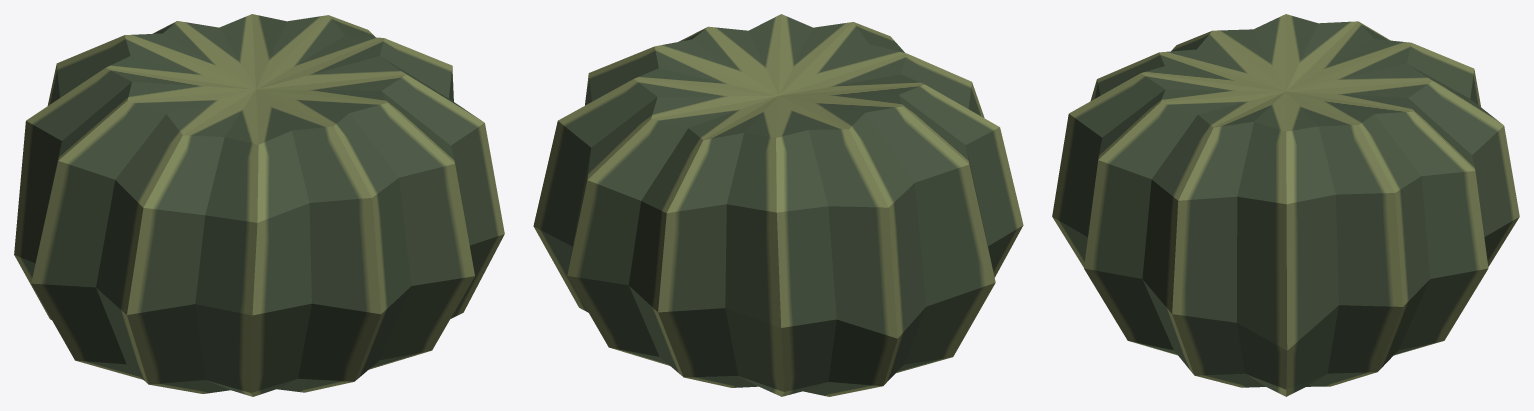
3 renders of one model, left to right at view 1: azimuth 30°, elevation 25°; view 2: azimuth 150°, elevation 25°; view 3: azimuth 270°, elevation 25°, orthographic. The views are drawn at different scales.
Visible parts, largest first — view 1: SM_Env_Cactus_02; view 2: SM_Env_Cactus_02; view 3: SM_Env_Cactus_02.
Part boxes in pixels (x1,y1,x2,y2): SM_Env_Cactus_02: (14,14,504,396); SM_Env_Cactus_02: (533,14,1023,396); SM_Env_Cactus_02: (1052,14,1519,396).
Size of the model in its own units: 0.5652 by 0.3819 by 0.5714.
1 material, 1 textured.
